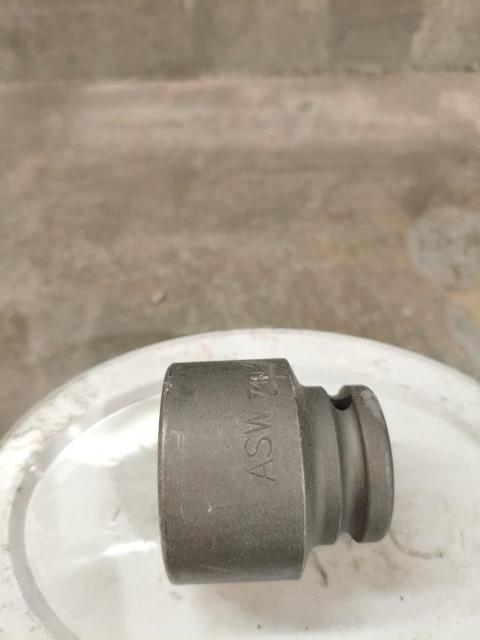Metal: (155, 348, 395, 585)
